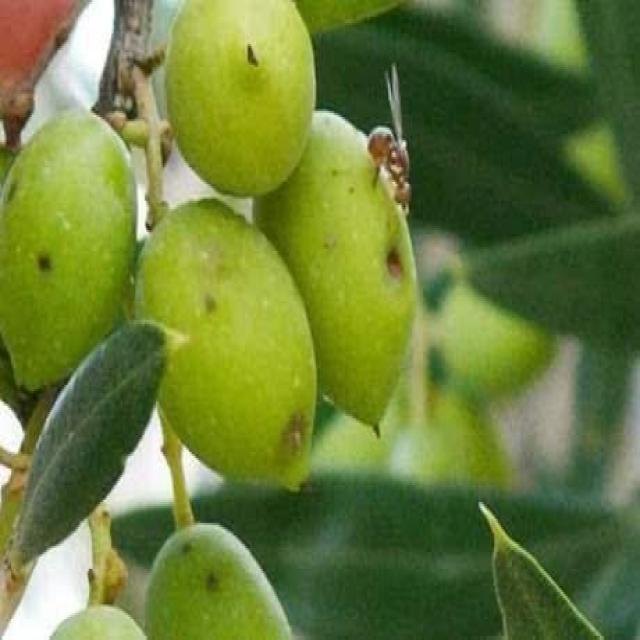Anthracnose: (139, 198, 316, 488), (256, 111, 418, 391), (0, 111, 136, 389)
